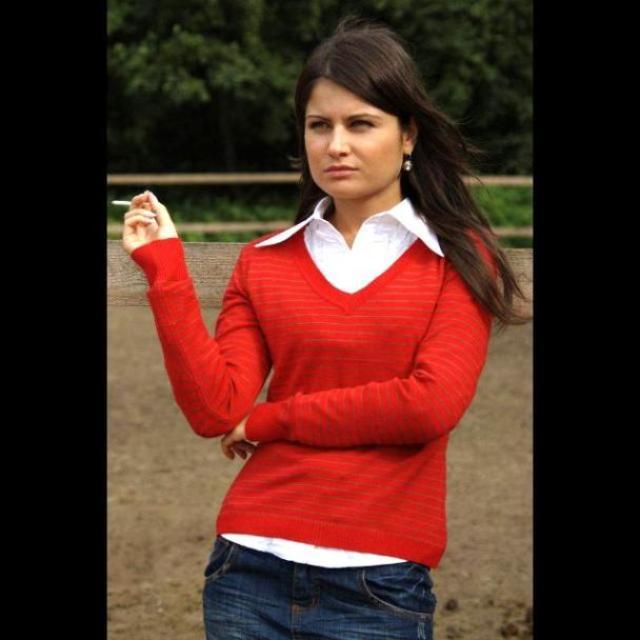rokok: (105, 192, 158, 220)
